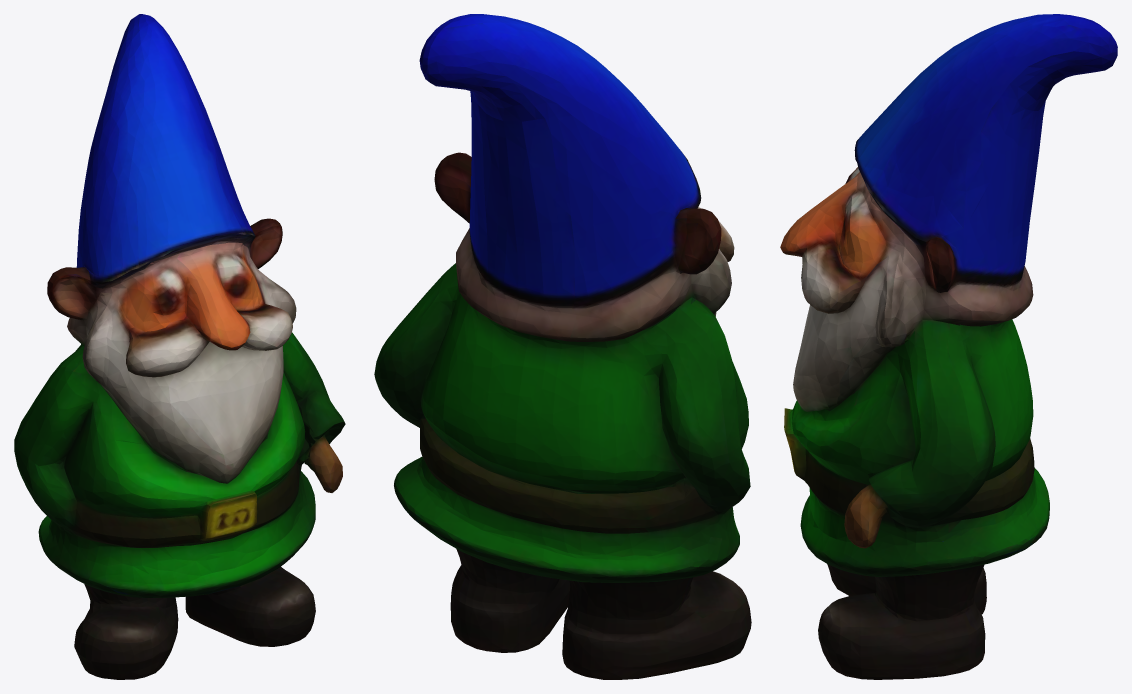
Rendered from gnome2.glb.
3 renders of one model, left to right at view 1: azimuth 30°, elevation 25°; view 2: azimuth 150°, elevation 25°; view 3: azimuth 270°, elevation 25°, orthographic. The views are drawn at different scales.
Parts seen in each view (by area): view 1: world; view 2: world; view 3: world.
Boxes of the visible parts, x1=… form: world: x1=14, y1=14, x2=345, y2=679; world: x1=374, y1=14, x2=751, y2=679; world: x1=780, y1=14, x2=1117, y2=679.
Bounding box in the file's own units: 0.5534 × 0.9984 × 0.484.
1 material, 1 textured.
